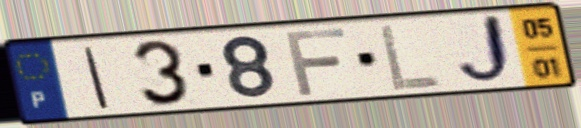3: (130, 37, 194, 110)
8: (218, 32, 279, 102)
F: (281, 25, 350, 98)
I: (80, 45, 113, 111)
J: (453, 11, 518, 89)
L: (375, 21, 445, 93)
